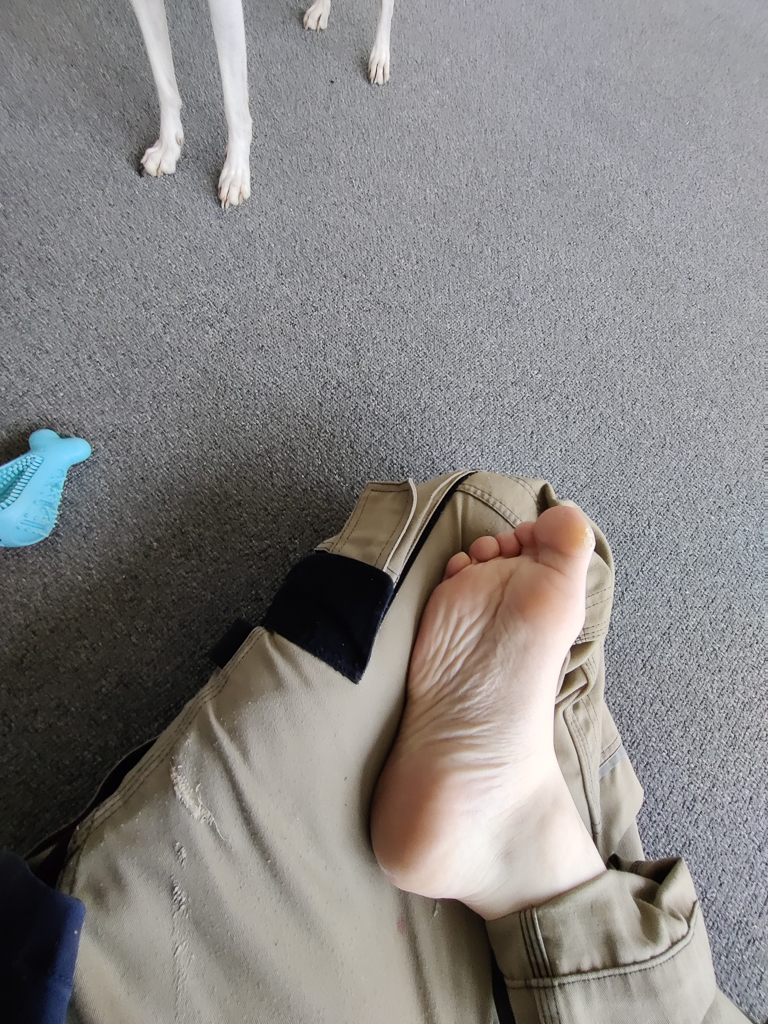Dog: (102, 0, 427, 222)
Humanoid: (0, 460, 759, 1024)
